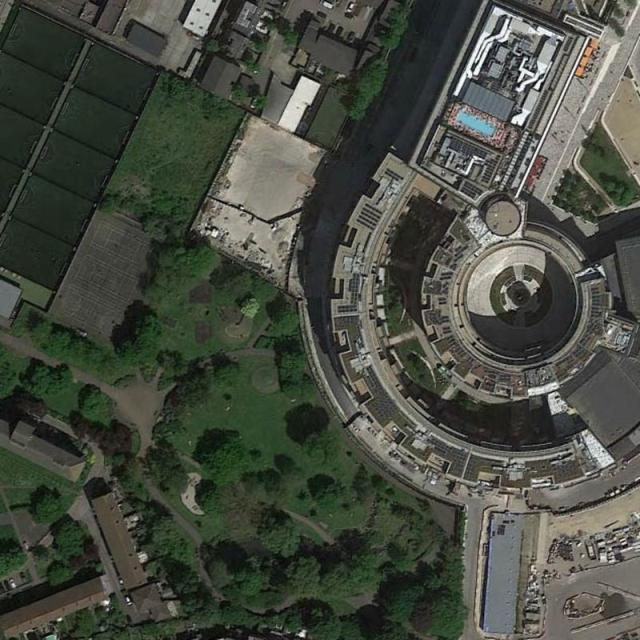vehicle: (319, 1, 333, 9), (346, 31, 355, 42), (346, 2, 355, 12), (327, 23, 336, 32), (20, 572, 27, 583), (124, 595, 131, 606), (317, 11, 326, 19), (334, 26, 342, 35), (9, 579, 16, 589), (345, 13, 354, 19)
